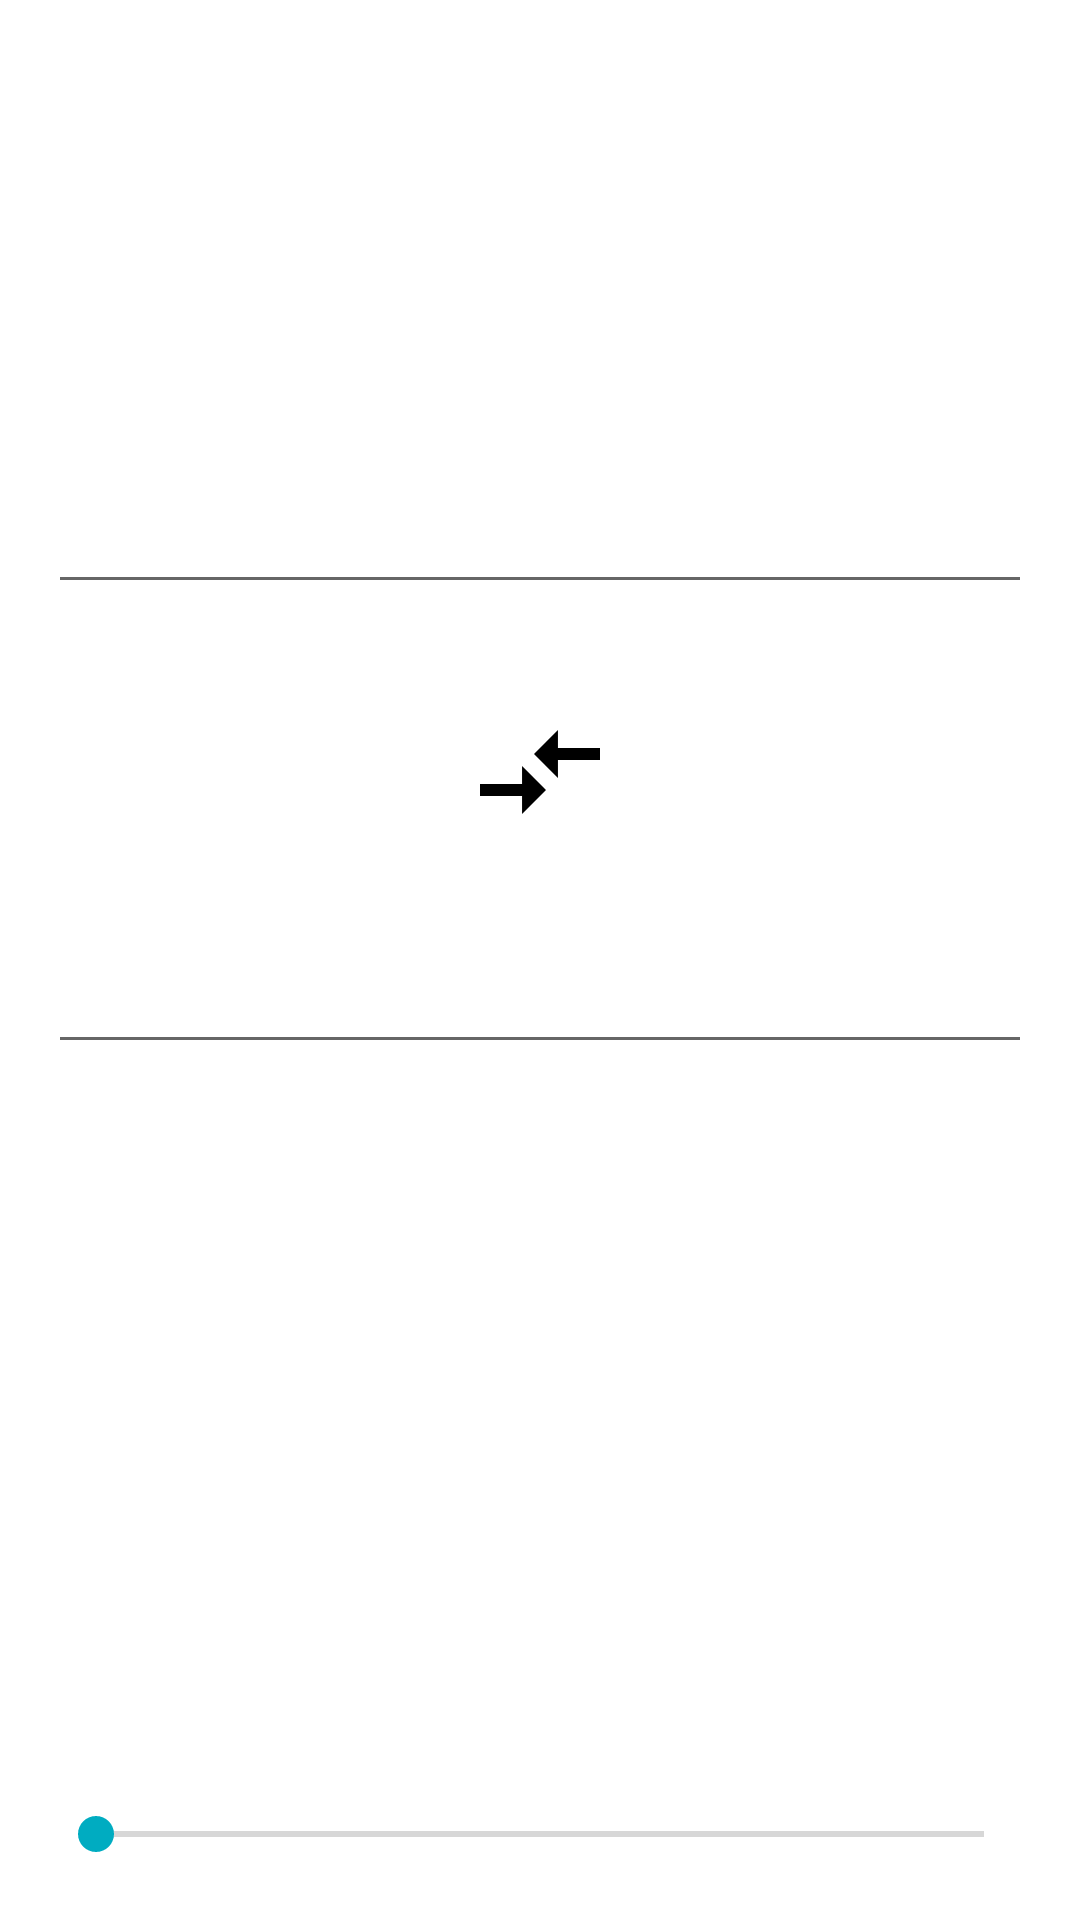

Screen size 1080x1920. Icon name, then its center in pixels as (x,y):
compare arrows: (540,772)
